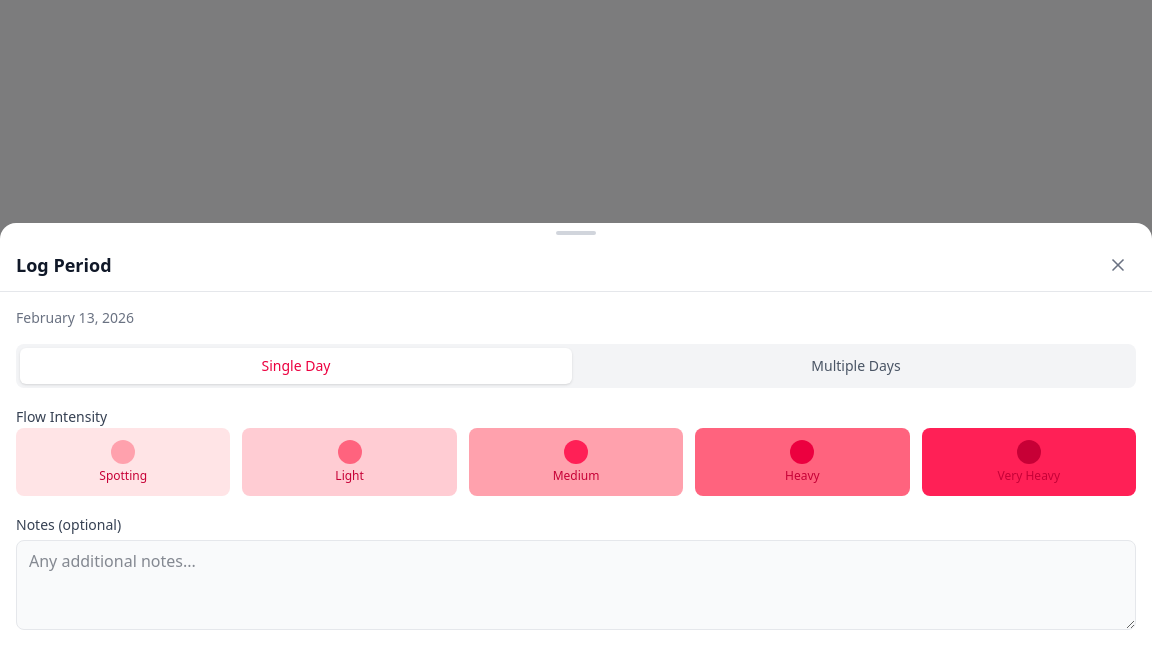
Test: PeriodLogForm › multi-day mode › should show date range inputs when Multiple Days is selected
Note: Click Multiple Days mode
Click the button "Multiple Days" at (856, 366), box [580,348,1132,384]
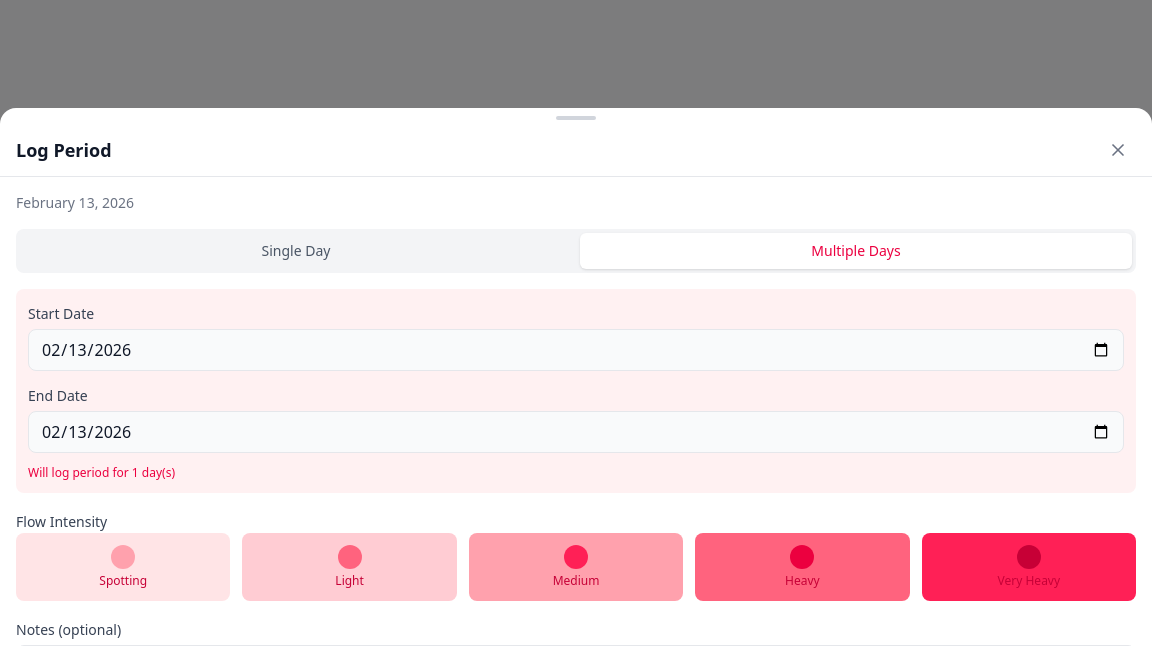
expect the text "Start Date" is shown: met, box [28,304,94,323]
expect the text "End Date" is shown: met, box [28,386,88,405]
